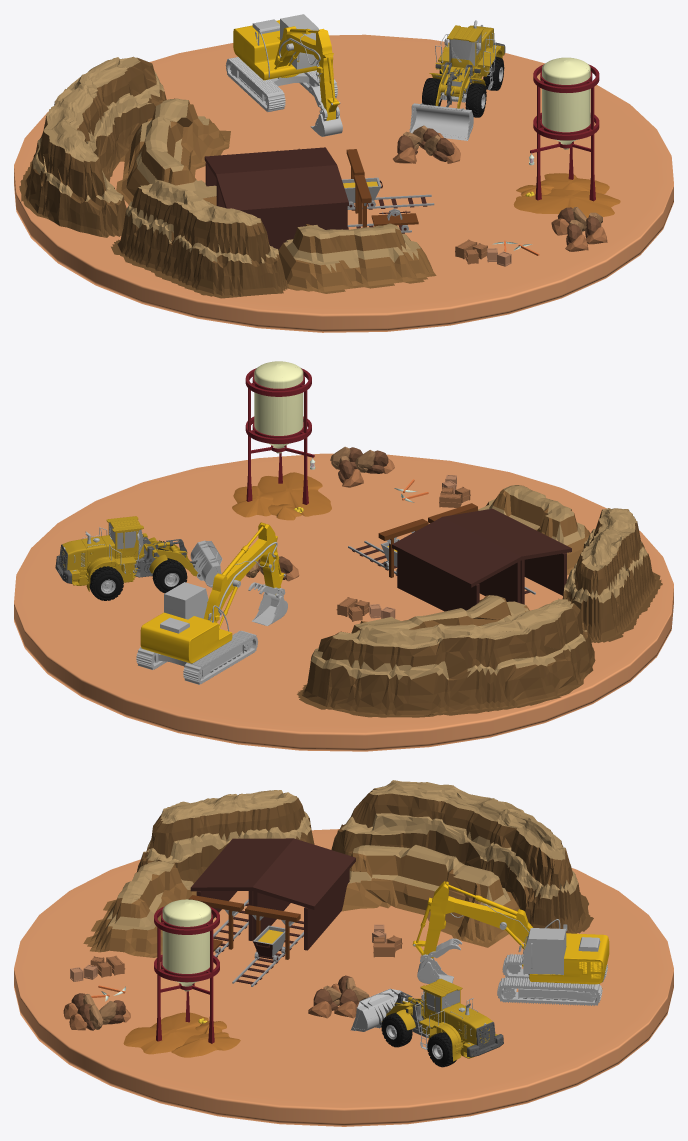
File: mineriaDraco.gltf
3 renders of one model, top to bottom at view 1: azimuth 30°, elevation 25°; view 2: azimuth 150°, elevation 25°; view 3: azimuth 270°, elevation 25°, orthographic.
Parts seen in each view (by area): view 1: Cylinder.001, Mountain4, Mountain3, Cantera, object.001, shovel_GEO_Mesh.004, Mountain, Mountain2, shovel_base, tires_base, cabin_base, Box.002 (+3 smaller); view 2: Cylinder.001, Mountain4, Cantera, shovel_GEO_Mesh.004, object.001, Mountain3, Mountain, Mountain2, body_back_base, tires_base, cabin_base, shovel_base (+3 smaller); view 3: Cylinder.001, Mountain4, Cantera, shovel_GEO_Mesh.004, Mountain2, object.001, Mountain3, Mountain, body_back_base, tires_base, shovel_base, cabin_base (+4 smaller).
Part boxes in pixels (bbox=[...]): Cylinder.001: bbox=[14, 34, 673, 332]; Mountain4: bbox=[19, 56, 166, 237]; Mountain3: bbox=[111, 179, 288, 298]; Cantera: bbox=[204, 147, 434, 249]; object.001: bbox=[513, 57, 620, 218]; shovel_GEO_Mesh.004: bbox=[225, 14, 342, 136]; Mountain: bbox=[278, 223, 436, 293]; Mountain2: bbox=[116, 98, 230, 205]; shovel_base: bbox=[409, 103, 473, 140]; tires_base: bbox=[422, 56, 504, 117]; cabin_base: bbox=[438, 25, 496, 68]; Box.002: bbox=[455, 239, 511, 266]; Cylinder.001: bbox=[14, 453, 673, 751]; Mountain4: bbox=[297, 598, 595, 717]; Cantera: bbox=[348, 503, 571, 611]; shovel_GEO_Mesh.004: bbox=[136, 522, 287, 684]; object.001: bbox=[232, 361, 331, 520]; Mountain3: bbox=[562, 508, 662, 642]; Mountain: bbox=[478, 485, 590, 575]; Mountain2: bbox=[351, 595, 529, 633]; body_back_base: bbox=[62, 535, 144, 585]; tires_base: bbox=[89, 540, 187, 600]; cabin_base: bbox=[106, 516, 143, 565]; shovel_base: bbox=[190, 540, 222, 587]; Cylinder.001: bbox=[14, 829, 673, 1126]; Mountain4: bbox=[331, 780, 593, 933]; Cantera: bbox=[188, 838, 355, 986]; shovel_GEO_Mesh.004: bbox=[412, 881, 609, 1005]; Mountain2: bbox=[342, 845, 519, 947]; object.001: bbox=[123, 899, 240, 1057]; Mountain3: bbox=[137, 790, 314, 883]; Mountain: bbox=[83, 861, 196, 957]; body_back_base: bbox=[422, 1003, 497, 1058]; tires_base: bbox=[381, 1012, 456, 1067]; shovel_base: bbox=[350, 988, 408, 1031]; cabin_base: bbox=[419, 978, 462, 1028].
Size of the model in its own units: 43.42 by 11.19 by 43.42.
